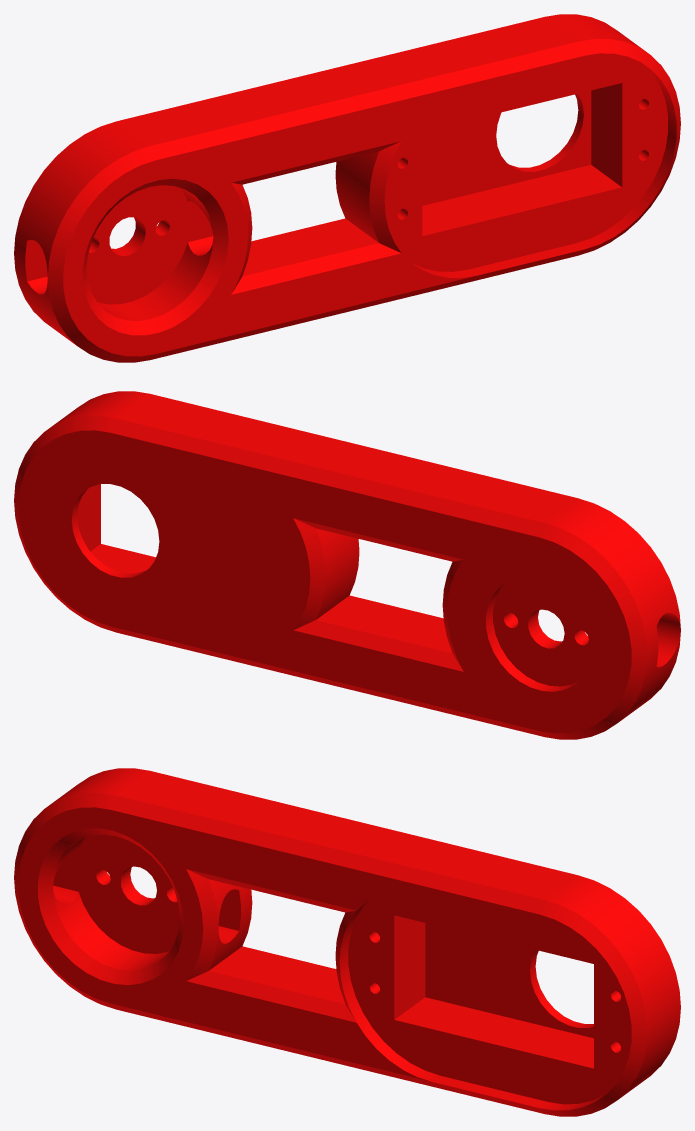
The model's file is elbow.gltf.
3 views of the same model, one above another, from view 1: azimuth 30°, elevation 25°; view 2: azimuth 150°, elevation 25°; view 3: azimuth 330°, elevation 25° (orthographic).
Visible parts, largest first — view 1: Solid1; view 2: Solid1; view 3: Solid1.
Boxes of the visible parts, box(x1,y1,x2,y2) form: Solid1: box(14, 14, 680, 362); Solid1: box(14, 391, 680, 739); Solid1: box(14, 768, 680, 1116).
Size of the model in its own units: 0.13 by 0.042 by 0.016.
